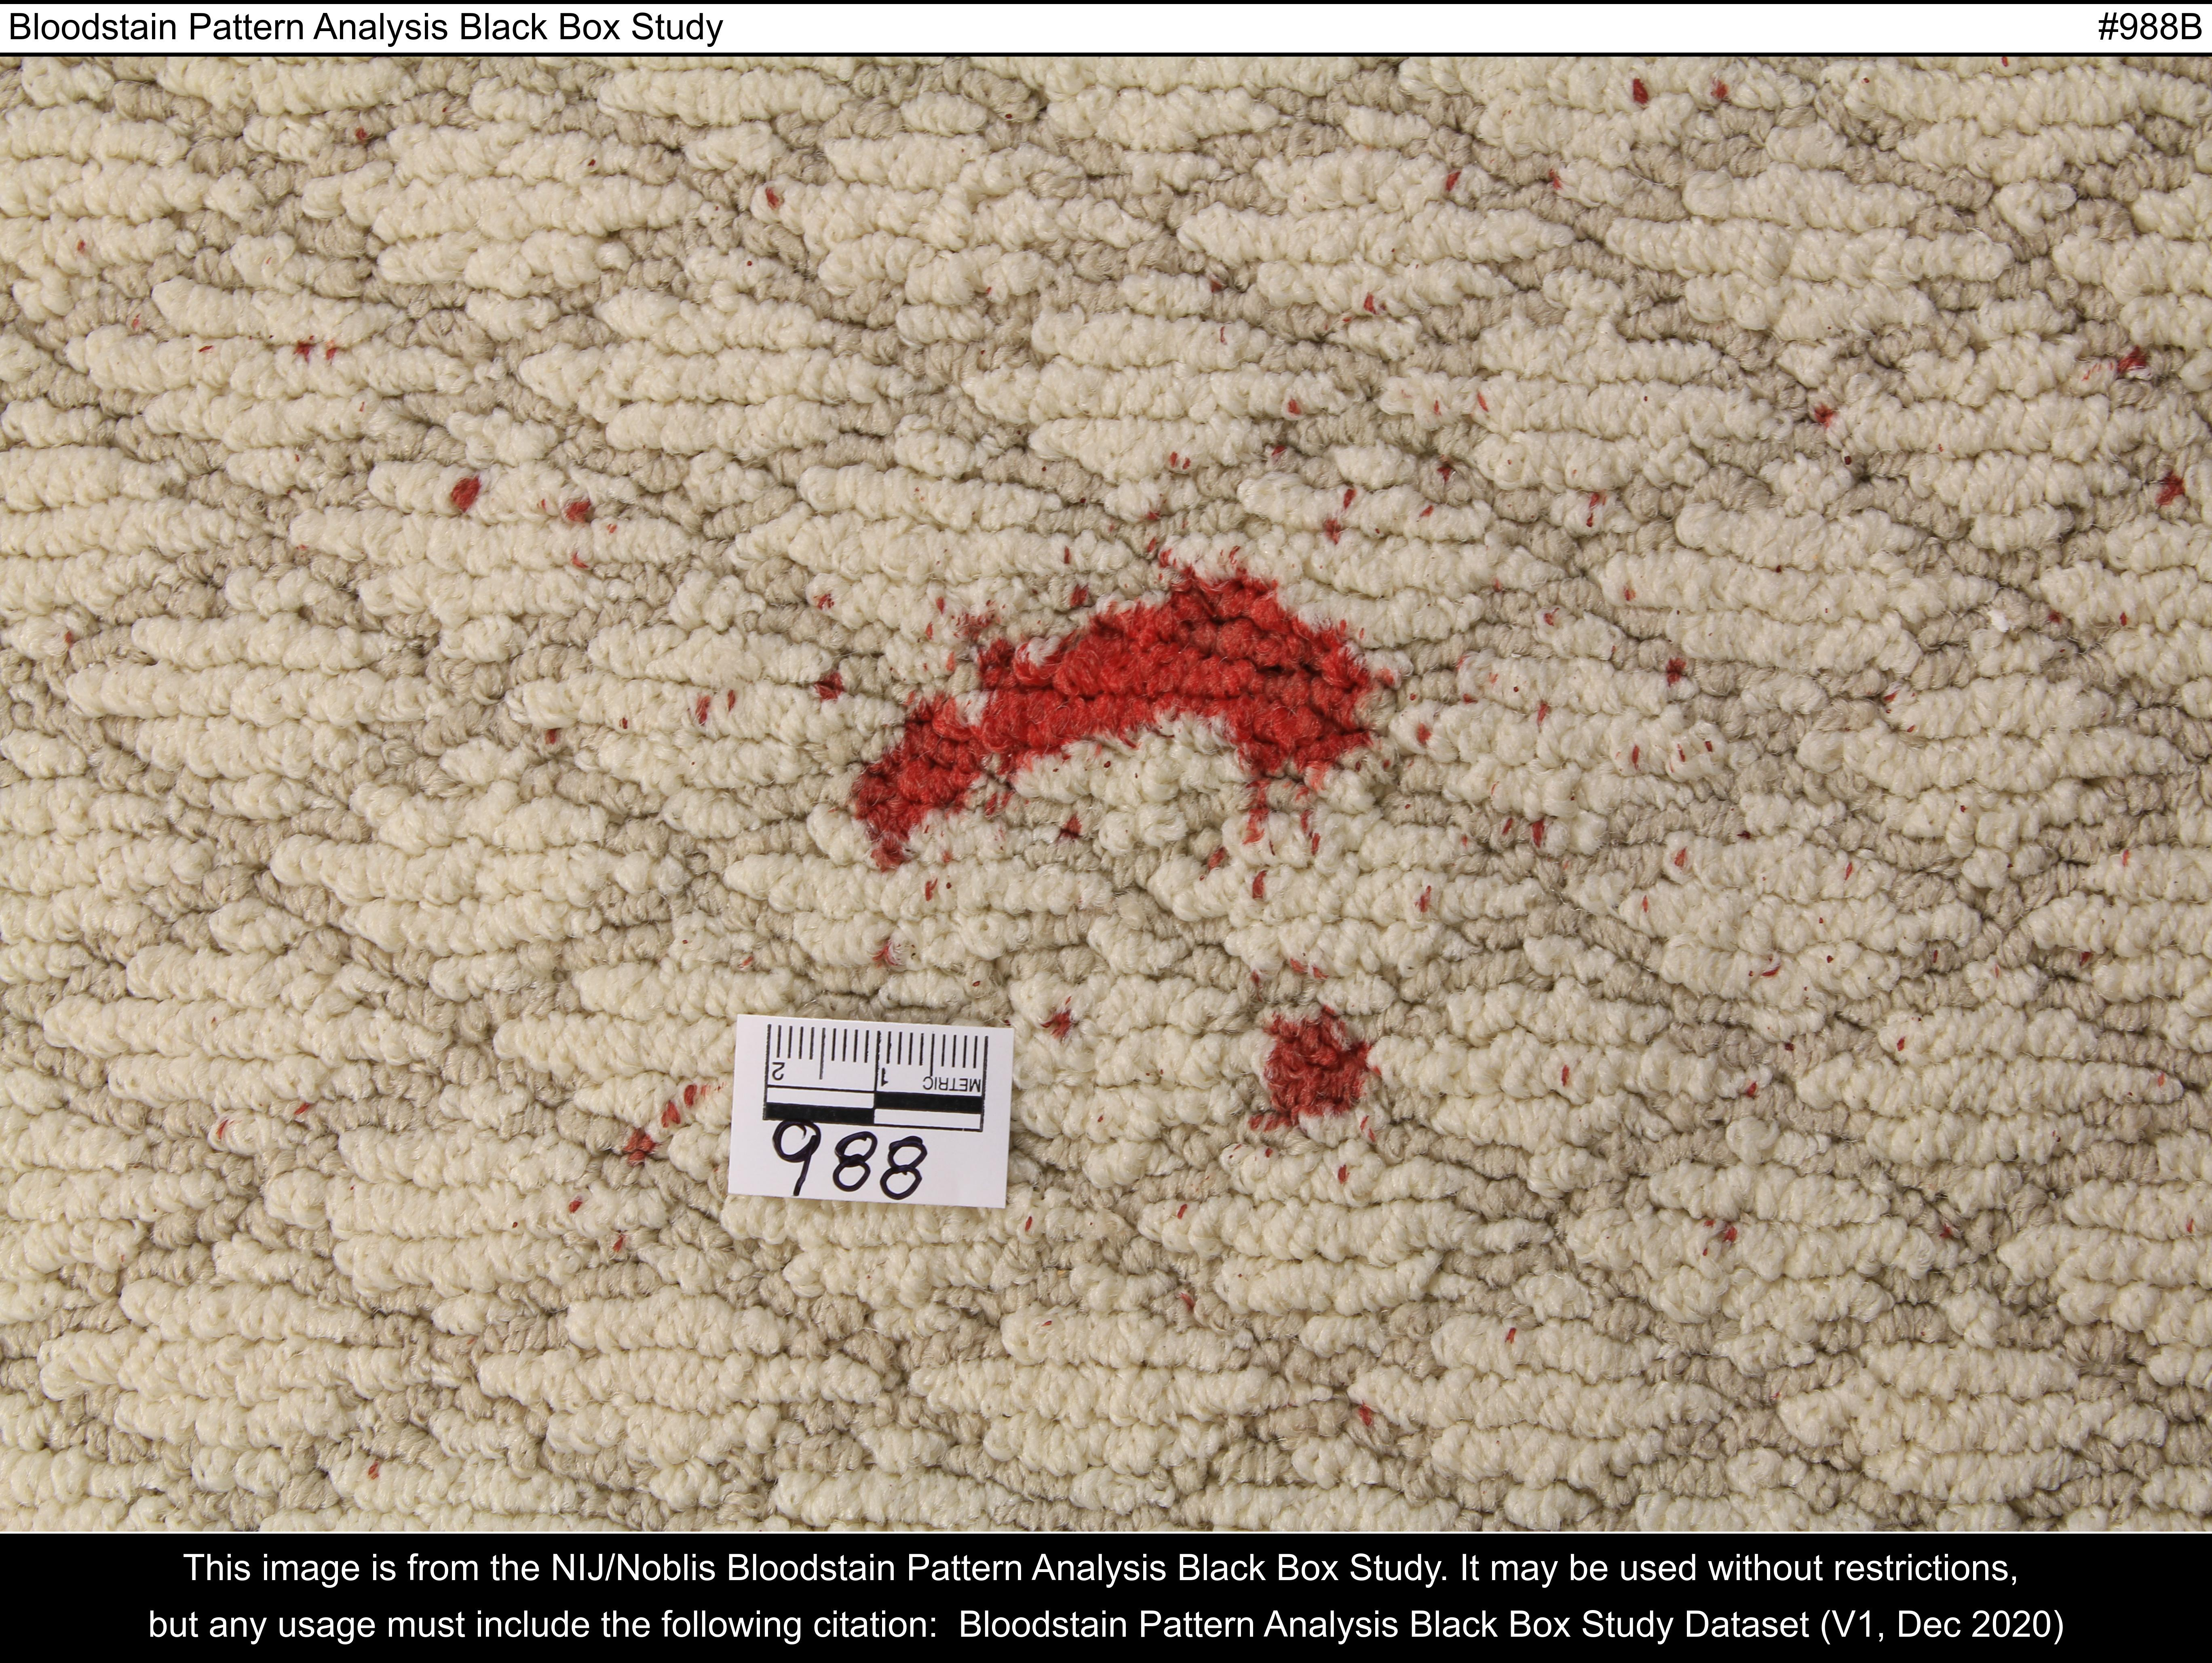Passive: (400, 381, 1500, 1156)
